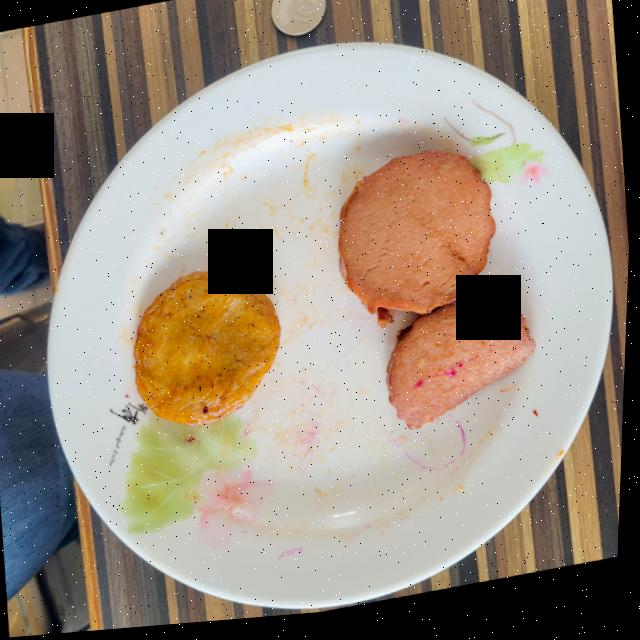Spam: (339, 157, 538, 436)
coin: (270, 0, 325, 41)
fish cake: (135, 274, 282, 429)
